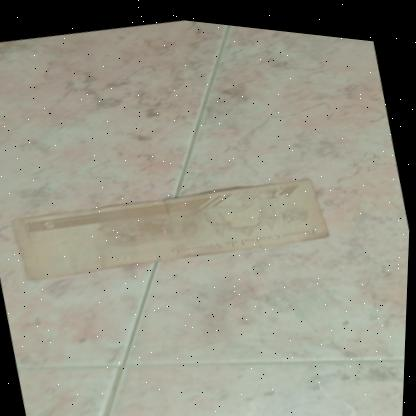five-back-vef: (9, 142, 335, 307)
